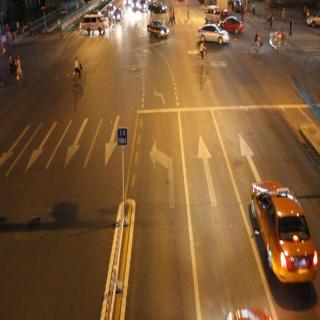Car: (240, 162, 320, 295), (79, 11, 116, 36), (197, 20, 229, 48), (147, 17, 169, 44), (222, 10, 244, 36), (203, 2, 222, 24)
